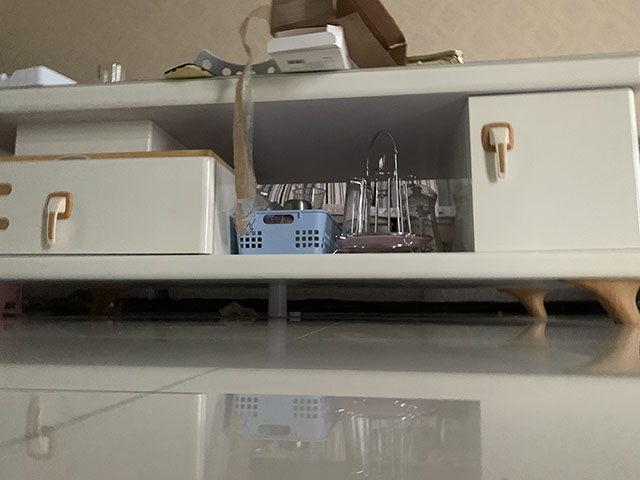table: (1, 48, 640, 326)
